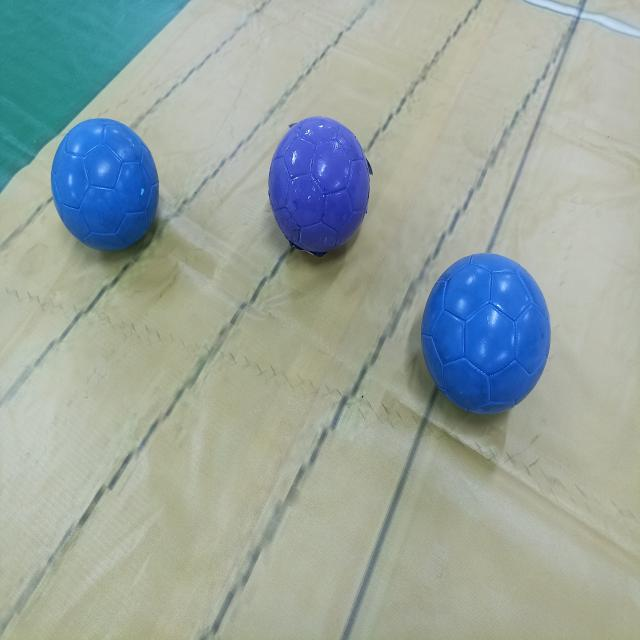blue_ball: (427, 260, 543, 408), (59, 125, 154, 242)
purple_ball: (274, 118, 368, 253)
